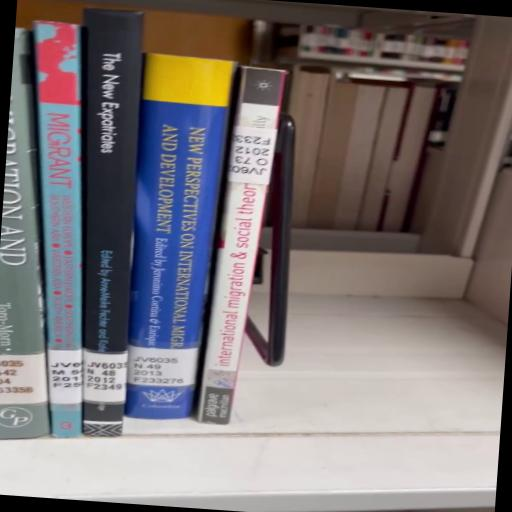book: (125, 54, 237, 420), (83, 10, 144, 438), (34, 23, 84, 438), (1, 30, 51, 440)
reverse: (198, 68, 287, 425)
